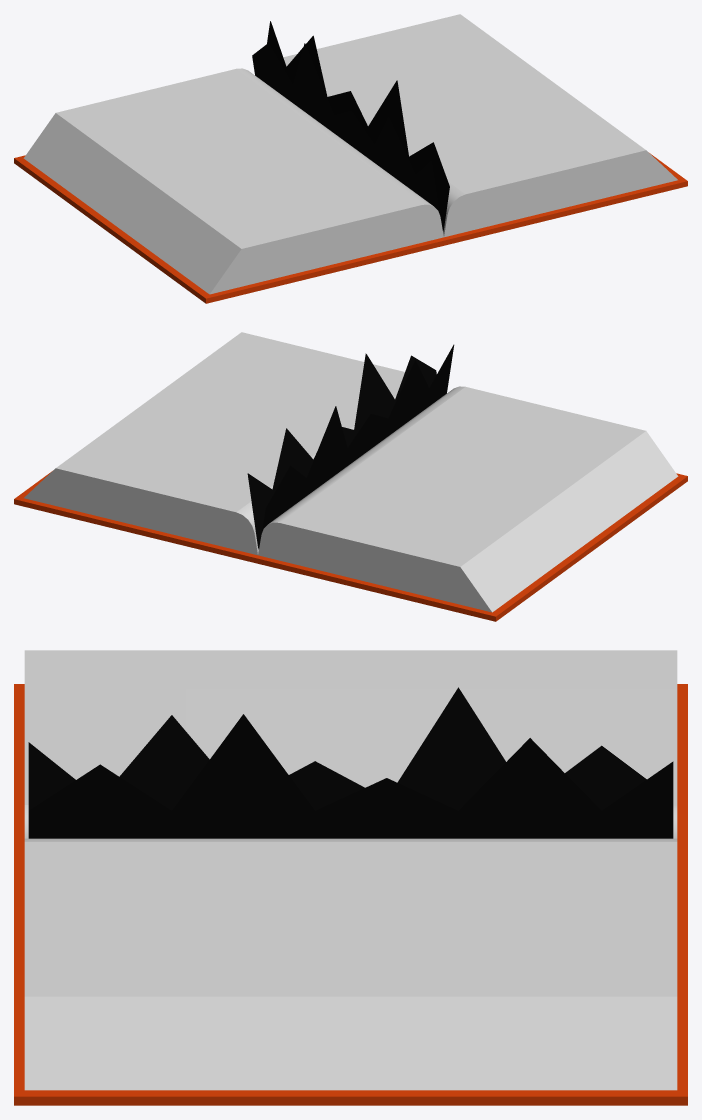
The model's file is Book_Open2_Light_Orange.fbx.
The picture shows the model from 3 angles, top to bottom: view 1: azimuth 30°, elevation 25°; view 2: azimuth 150°, elevation 25°; view 3: azimuth 270°, elevation 25°; orthographic projection. The views are drawn at different scales.
Visible parts, largest first — view 1: Book_Open2_Light_Orange; view 2: Book_Open2_Light_Orange; view 3: Book_Open2_Light_Orange.
Part boxes in pixels (x1,y1,x2,y2): Book_Open2_Light_Orange: (14, 14, 687, 303); Book_Open2_Light_Orange: (14, 332, 687, 621); Book_Open2_Light_Orange: (14, 650, 687, 1105).
Bounding box in the file's own units: 39.42 × 8.85 × 27.21.
